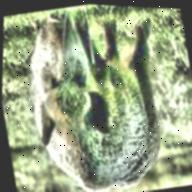boar: (12, 1, 192, 192)
